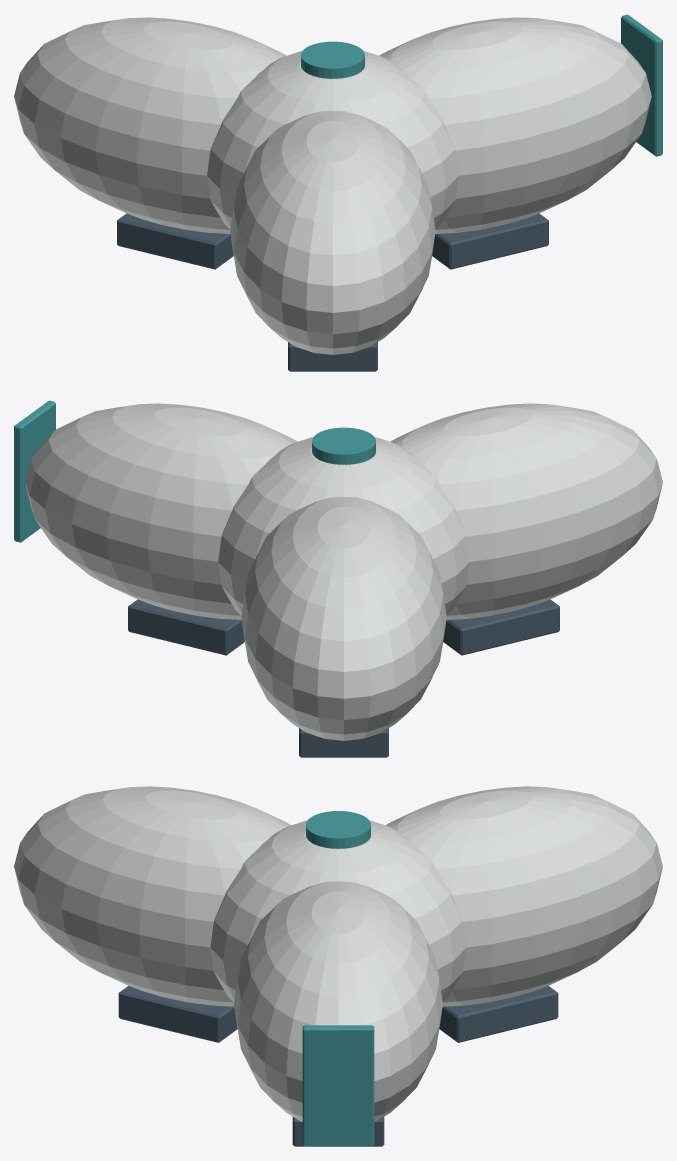
The picture shows the model from 3 angles, top to bottom: view 1: azimuth 30°, elevation 25°; view 2: azimuth 150°, elevation 25°; view 3: azimuth 270°, elevation 25°; orthographic projection.
Visible parts, largest first — view 1: ME-082 Three lobe radial habitat shell batched; view 2: ME-082 Three lobe radial habitat shell batched; view 3: ME-082 Three lobe radial habitat shell batched.
Part boxes in pixels (box(x1,y1,x2,y2)): ME-082 Three lobe radial habitat shell batched: box(14, 14, 662, 371); ME-082 Three lobe radial habitat shell batched: box(14, 400, 662, 757); ME-082 Three lobe radial habitat shell batched: box(14, 786, 662, 1146).
Size of the model in its own units: 4.49 by 1.91 by 4.97.
